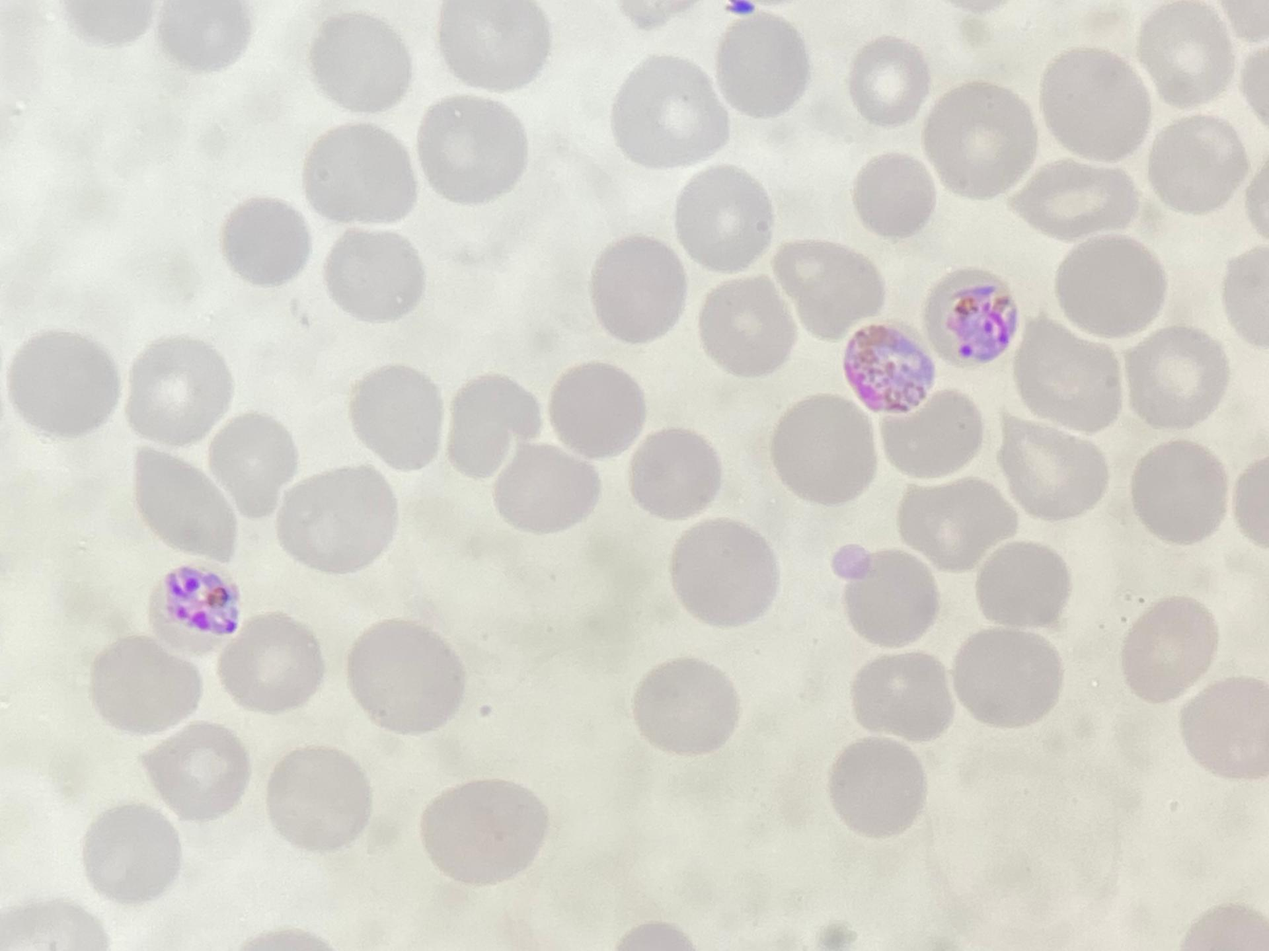Infected: (922, 266, 1022, 367), (147, 560, 247, 658), (846, 319, 938, 405)
Uninfected: (346, 619, 467, 732), (275, 465, 397, 574), (919, 82, 1036, 195), (609, 54, 727, 166), (420, 779, 544, 884), (414, 95, 532, 204), (1037, 46, 1149, 160), (131, 446, 238, 565), (1011, 313, 1120, 428), (7, 328, 120, 437), (303, 120, 420, 225), (630, 657, 748, 761), (668, 517, 778, 627), (769, 393, 877, 504), (1055, 231, 1165, 336), (126, 336, 233, 443), (264, 744, 371, 851), (1000, 415, 1109, 517), (141, 721, 250, 822), (346, 363, 447, 472), (588, 233, 687, 342), (950, 628, 1059, 727), (772, 238, 882, 336), (89, 634, 199, 732), (898, 473, 1011, 568), (1137, 3, 1237, 110), (673, 165, 775, 269), (217, 615, 325, 712), (307, 11, 412, 110), (1119, 596, 1216, 703), (1145, 114, 1247, 215), (1123, 325, 1225, 426), (1129, 438, 1227, 543), (444, 371, 541, 477), (1008, 159, 1133, 241), (81, 803, 182, 903), (436, 1, 548, 91), (838, 547, 939, 646), (879, 387, 985, 481), (492, 441, 599, 534), (828, 738, 927, 838), (697, 276, 796, 376), (322, 226, 424, 322), (714, 14, 810, 116), (548, 359, 646, 458), (849, 649, 952, 741), (1178, 674, 1269, 777), (206, 411, 297, 512), (627, 426, 723, 520), (218, 194, 310, 287), (976, 539, 1070, 628), (851, 150, 937, 237), (848, 37, 931, 123), (158, 2, 250, 71)
